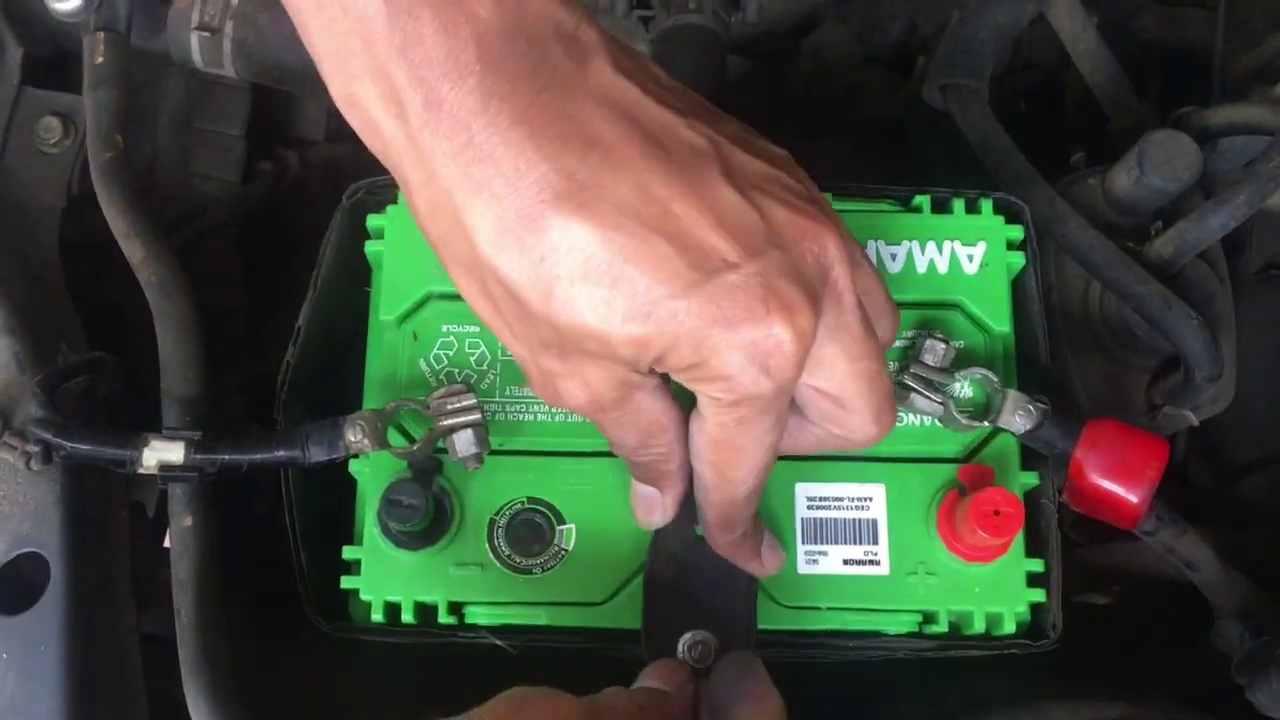battery: (364, 181, 1056, 652)
neg_disconnected: (320, 390, 504, 575)
pos_disconnected: (911, 311, 1137, 590)
